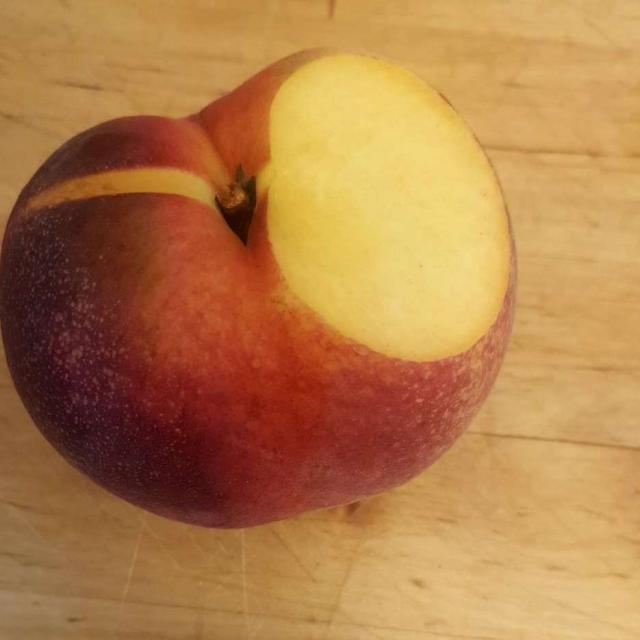peach: (6, 58, 500, 515)
